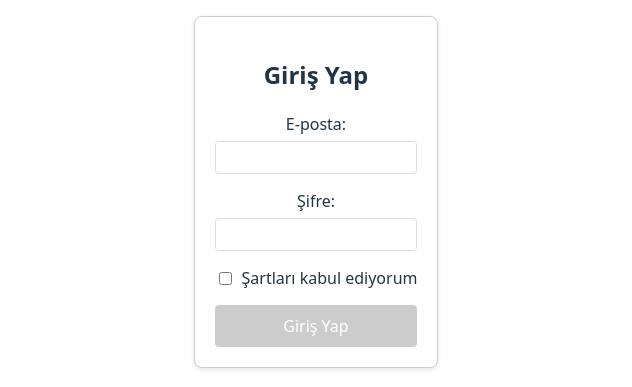
Login Form E2E Tests › başarılı form doldurulduğunda submit edebilmeli ve success sayfasına yönlenmeli
The width and height of the screenshot is (632, 387).
Geçerli email ve şifre gir
Type "test@example.com" into the field with id "email" at (317, 158), box [215,141,418,174]
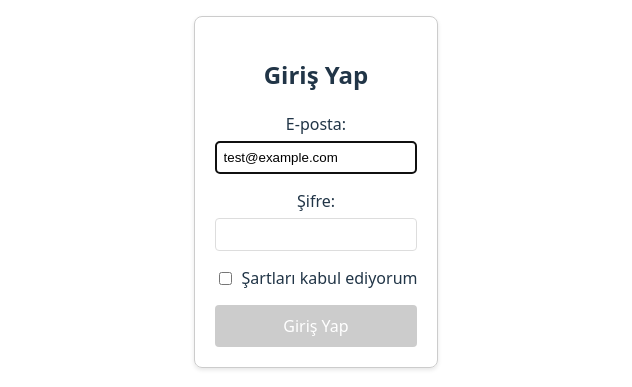
Type "sifre123" into the password field labelled "Şifre:" at (317, 235), box [215,218,418,251]
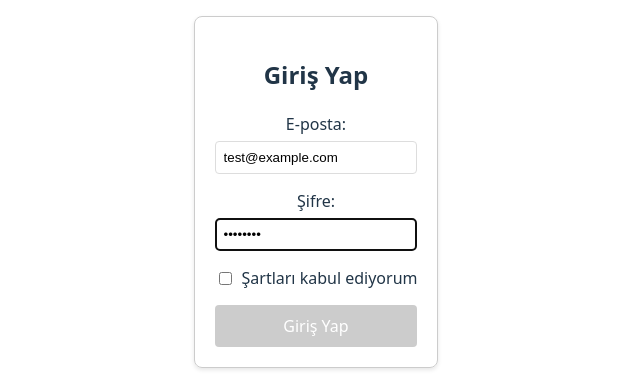
Check the checkbox with id "terms" at (226, 279), box [219,272,232,285]
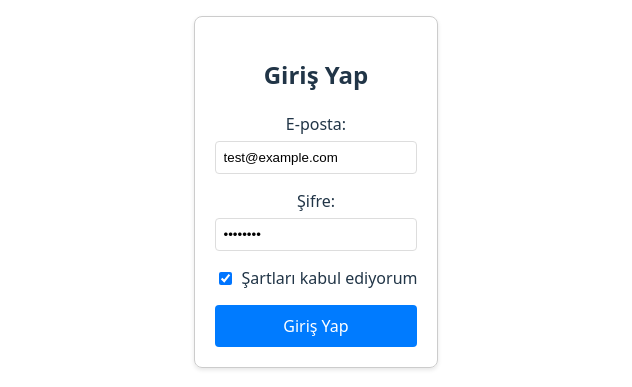
Check: the submit button is enabled
Butonun devre dışı olmadığını kontrol et ve tıkla
Click the submit button at (317, 326), box [215,305,418,347]
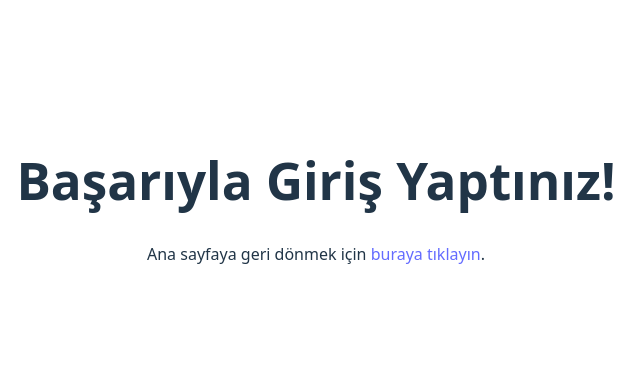
Check: the heading "Başarıyla Giriş Yaptınız!" is shown, box [16,152,616,208]
